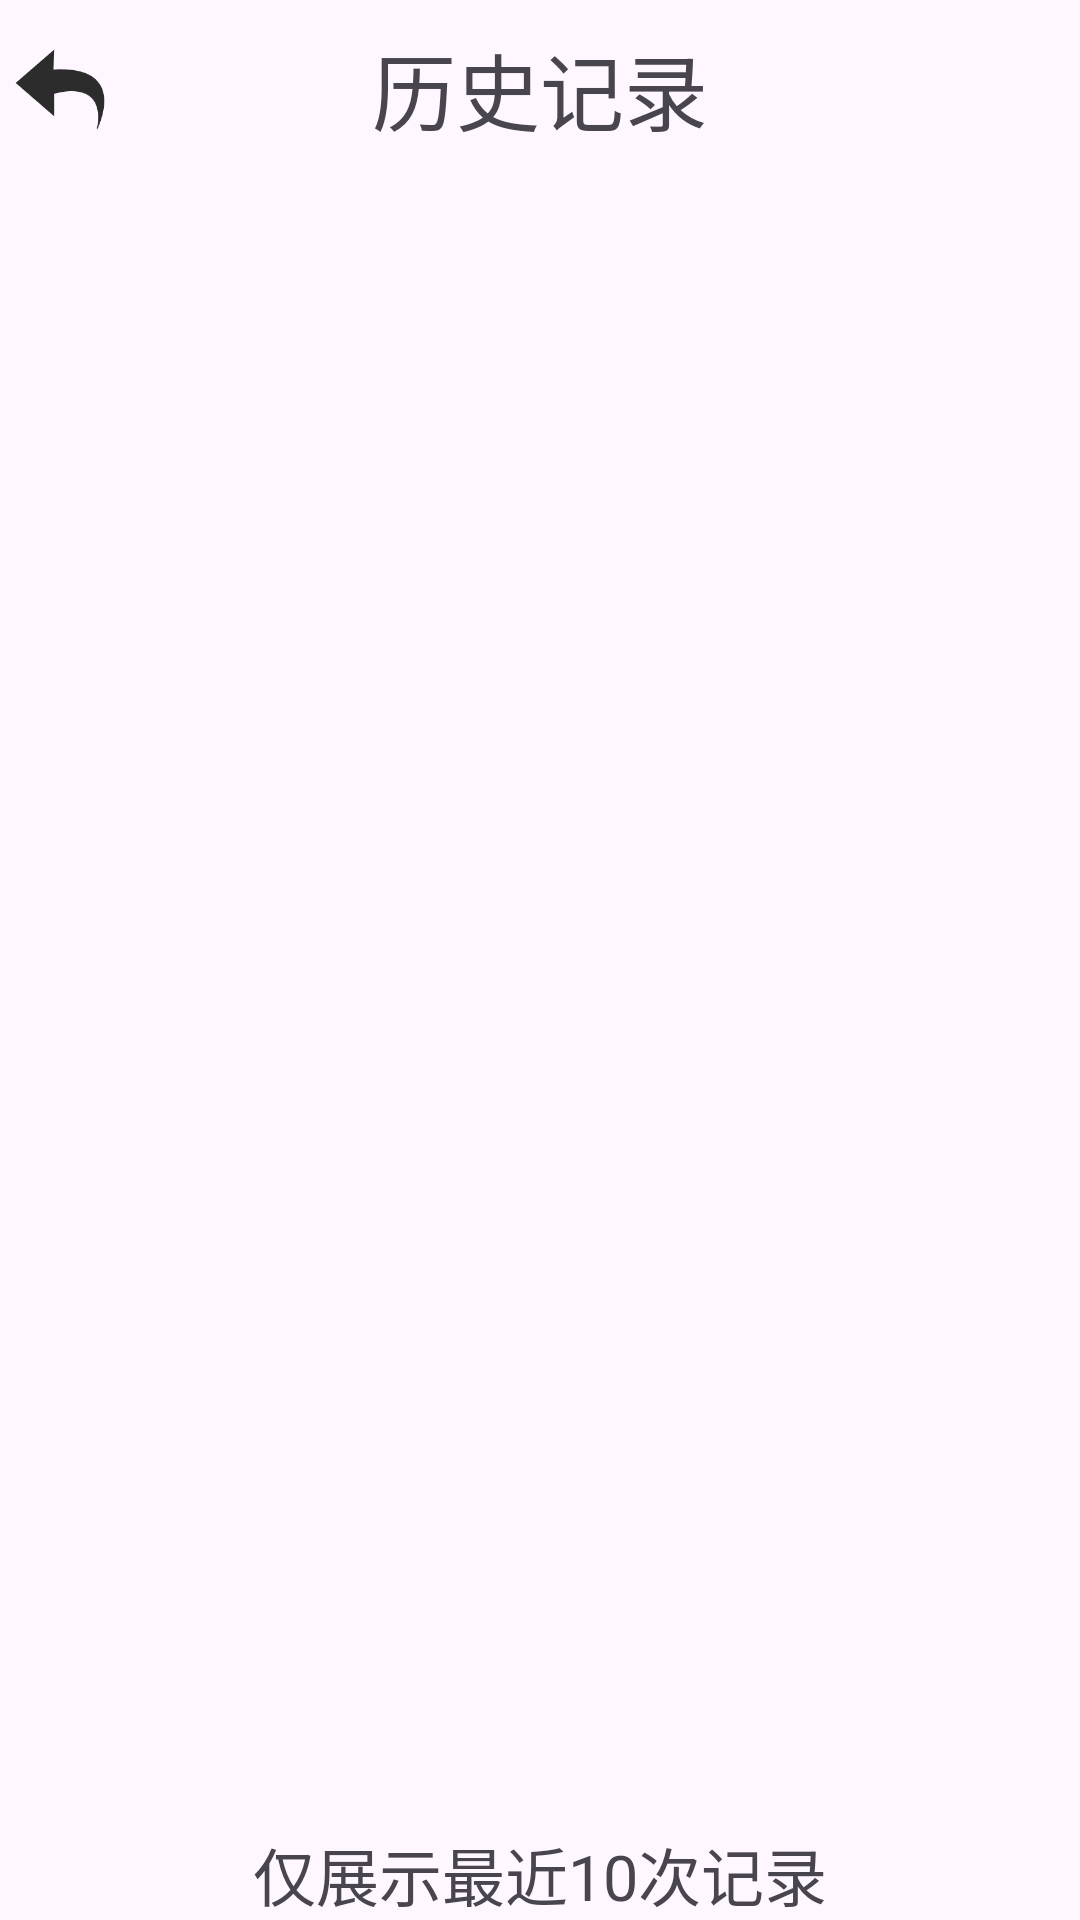

Screen size 1080×1920. Icon name, then its center in pixels as [x,y]:
返回按钮: [60,89]
